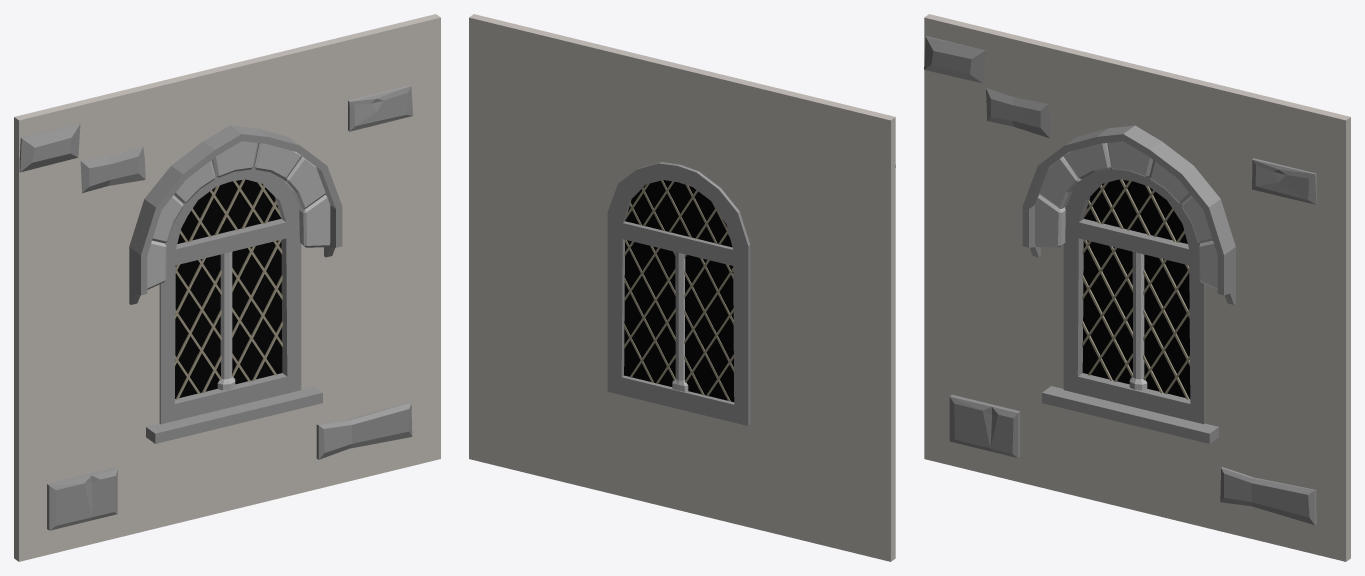
Rendered from _WINDOW_03_1.fbx.
3 views of the same model, side by side, from view 1: azimuth 30°, elevation 25°; view 2: azimuth 150°, elevation 25°; view 3: azimuth 330°, elevation 25° (orthographic).
Parts seen in each view (by area): view 1: WINDOW_03_1; view 2: WINDOW_03_1; view 3: WINDOW_03_1.
Boxes of the visible parts, box(x1,y1,x2,y2) form: WINDOW_03_1: box(14, 14, 440, 561); WINDOW_03_1: box(469, 14, 895, 561); WINDOW_03_1: box(924, 14, 1350, 561).
Size of the model in its own units: 300 by 300 by 22.97.
